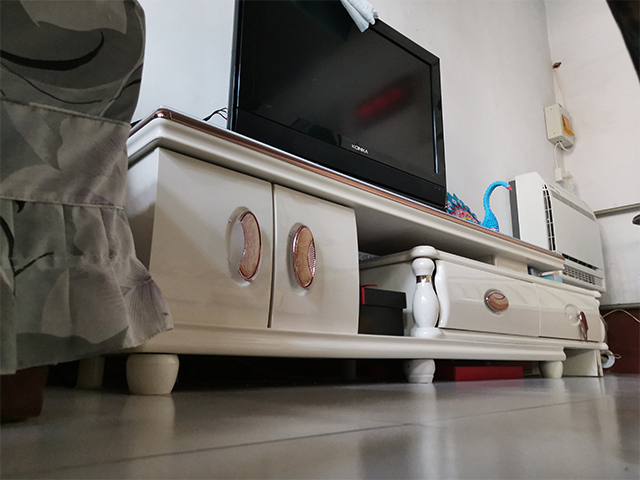cabinet: (74, 104, 611, 395)
